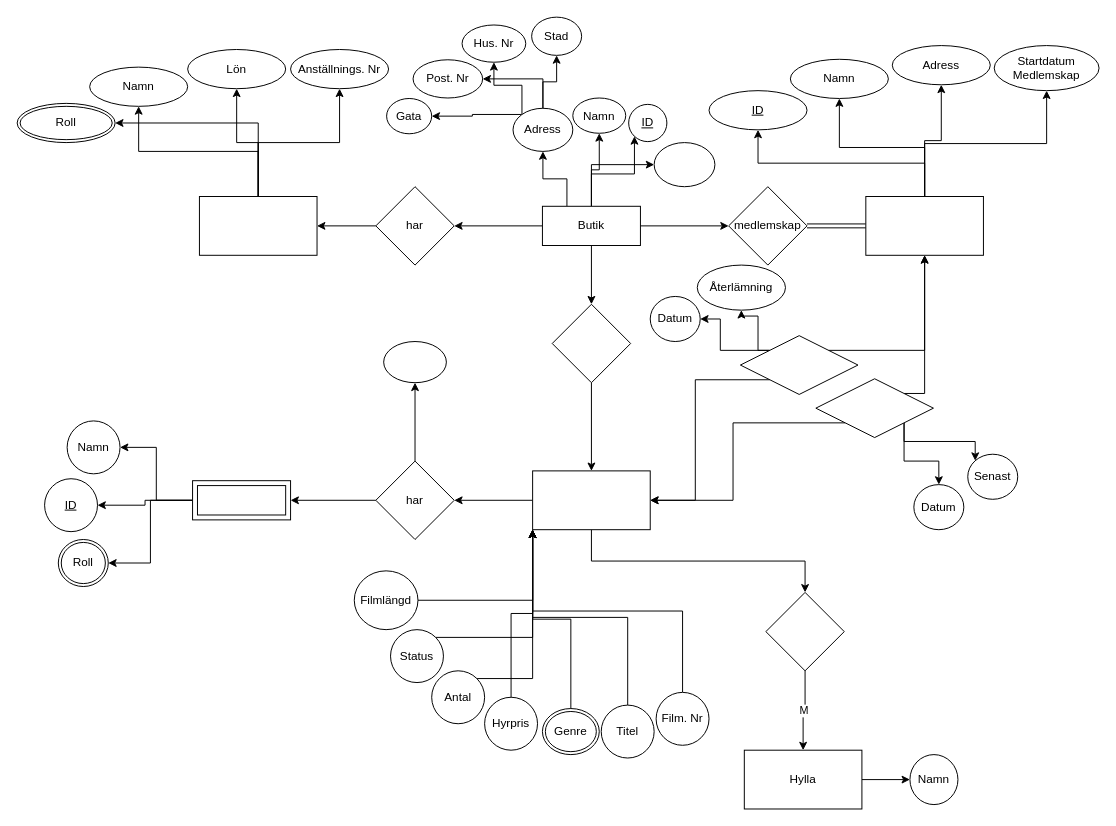
Image size: 1116x826. Some labels were removed from this diagram. Each missing label, with the centre of its shape:
Anställda: point 257,225
erbjuder: point 591,343
Film: point 591,500
Filmpersonal: point 241,500
Hyrning: point 798,364
Medlem: point 924,225
Prioritet: point 414,362
på: point 804,631
Reservering: point 874,408
Telefon: point 684,164
